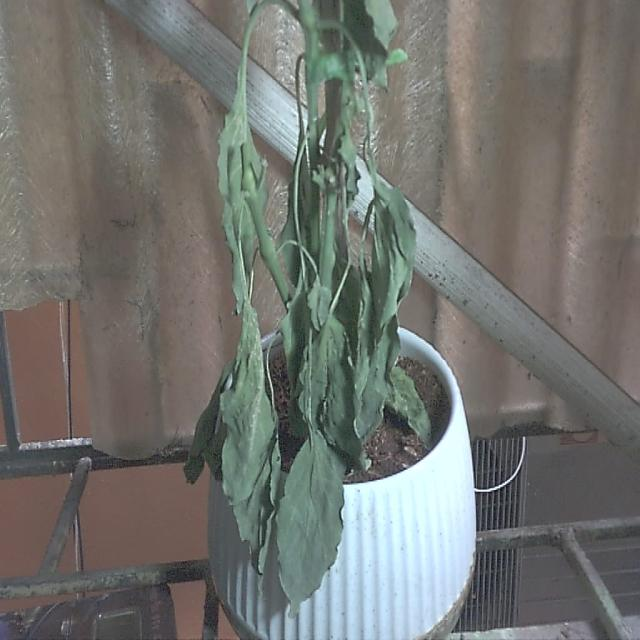Leaf: (220, 305, 279, 572), (277, 432, 344, 616), (184, 361, 233, 483), (387, 366, 431, 446)
